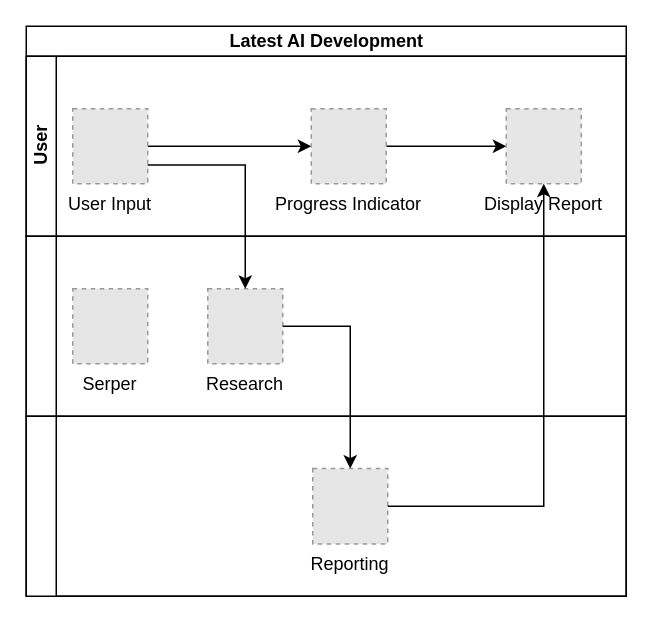
The diagram is 653 pixels wide and 623 high, and some of its shapes have lost their labels. Grey dashed boxes stand in for pictures. Each missing label, with the box of its shape:
Reporting Analyst: (25, 415, 626, 596)
Researcher: (25, 235, 626, 416)
